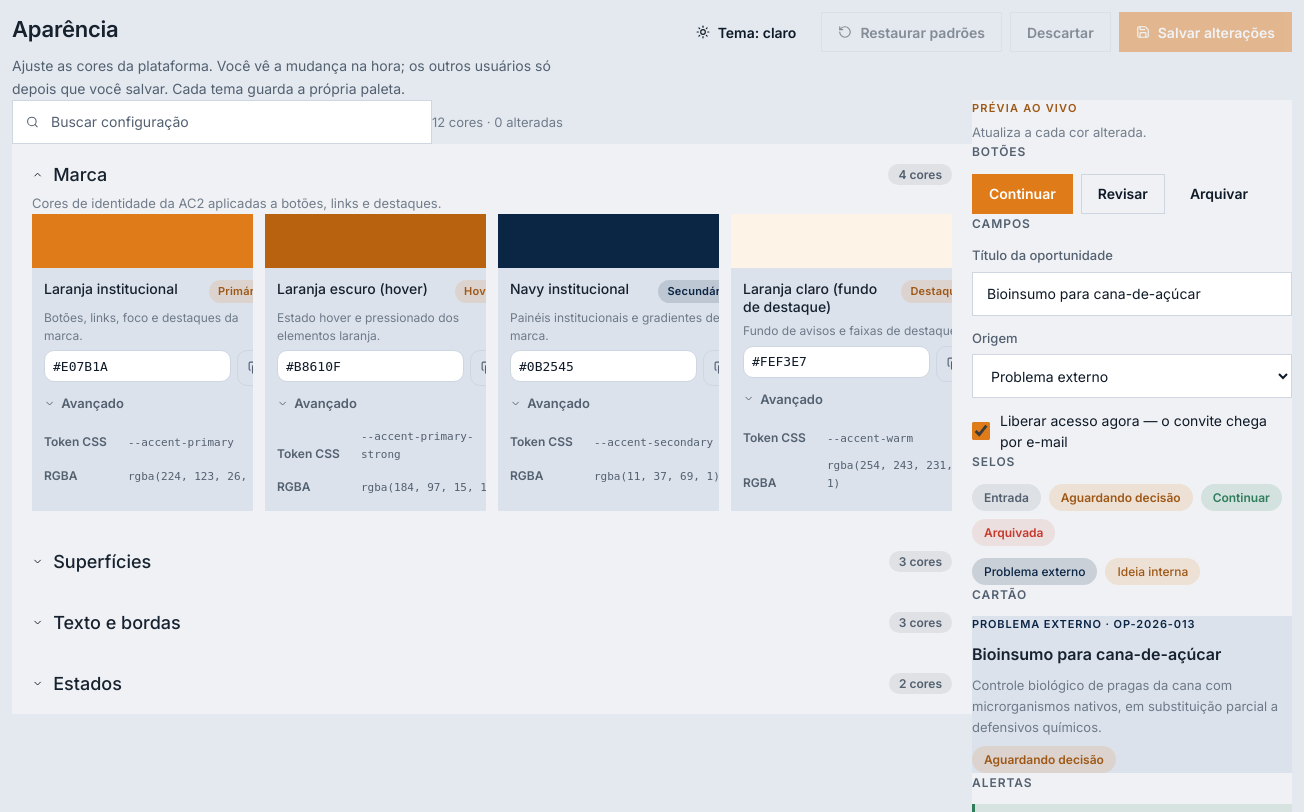
Test case: AppearanceSection › a busca revela o que casa mesmo em grupo recolhido
Type "sucesso" into the search field labelled "Buscar configuração" at (222, 122), box [12,100,432,144]
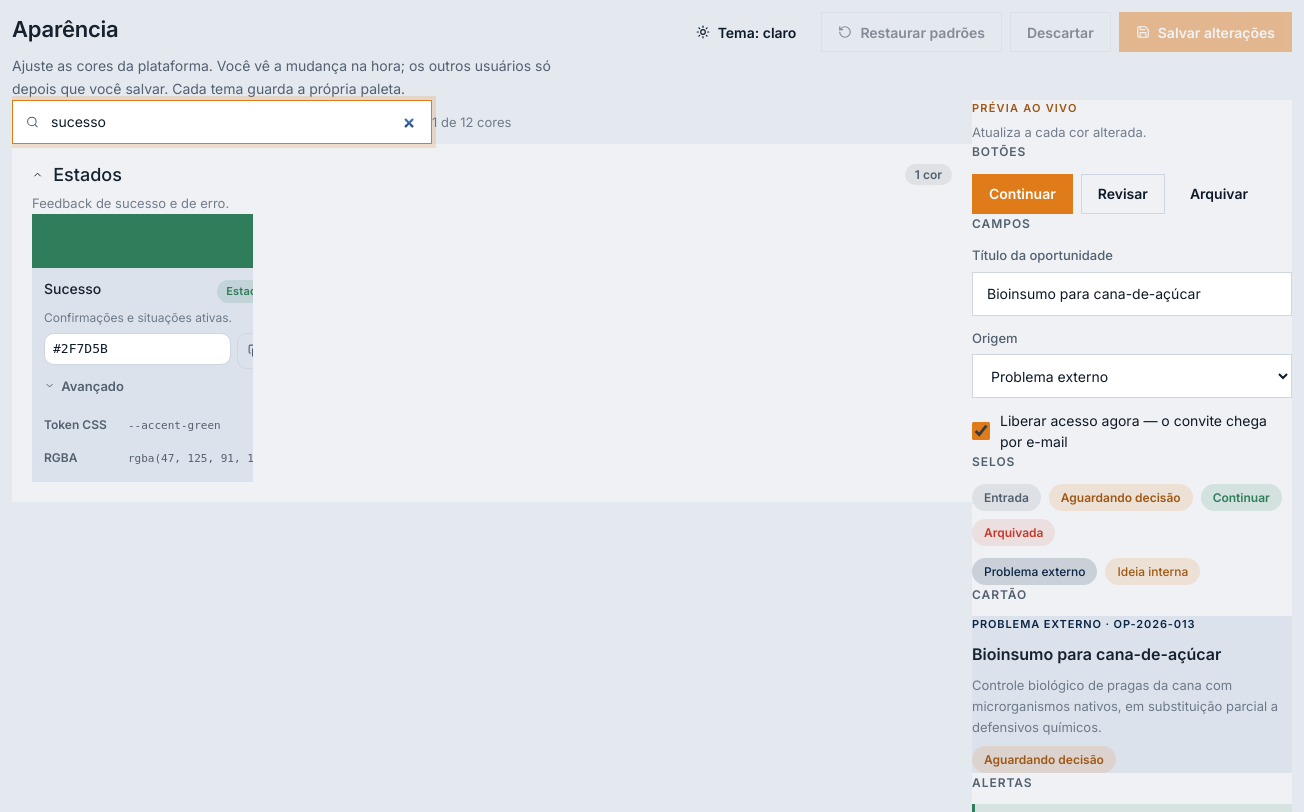
Expected: the heading "Sucesso" is shown, [44,280,101,298]
